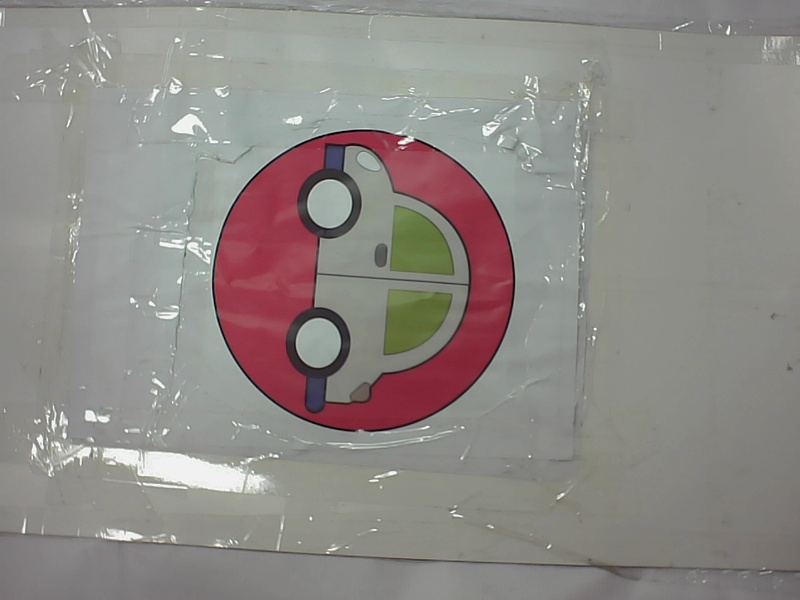areaC: (196, 123, 521, 436)
